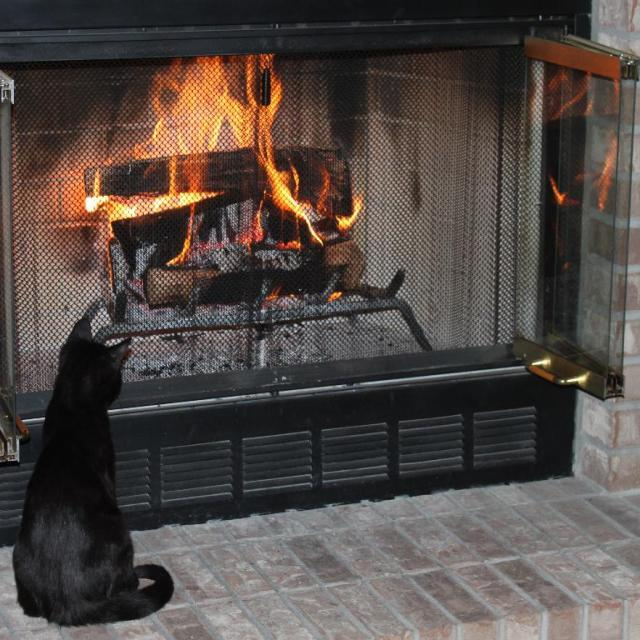Fire: (46, 46, 372, 308), (526, 69, 626, 213)
